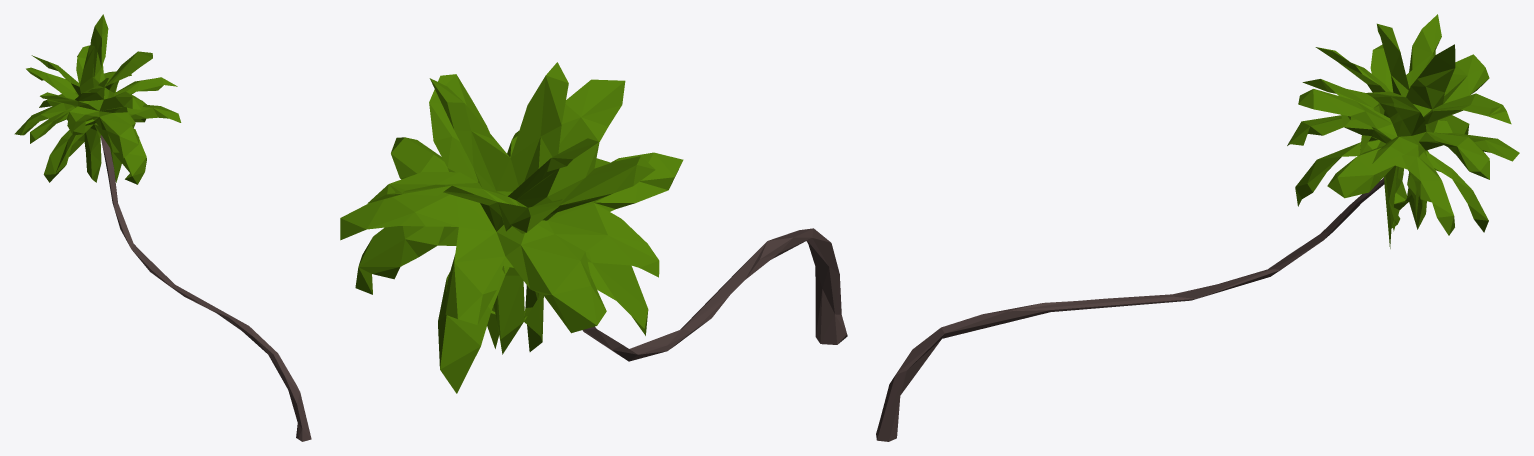
Rendered from leaning-palm.glb.
3 views of the same model, side by side, from view 1: azimuth 30°, elevation 25°; view 2: azimuth 150°, elevation 25°; view 3: azimuth 270°, elevation 25° (orthographic). The views are drawn at different scales.
Visible parts, largest first — view 1: PaperTrees.030; view 2: PaperTrees.030; view 3: PaperTrees.030.
Part boxes in pixels (x1,y1,x2,y2): PaperTrees.030: [14, 14, 311, 441]; PaperTrees.030: [340, 62, 847, 393]; PaperTrees.030: [876, 14, 1519, 441].
Size of the model in its own units: 5.92 by 11.22 by 16.64.
